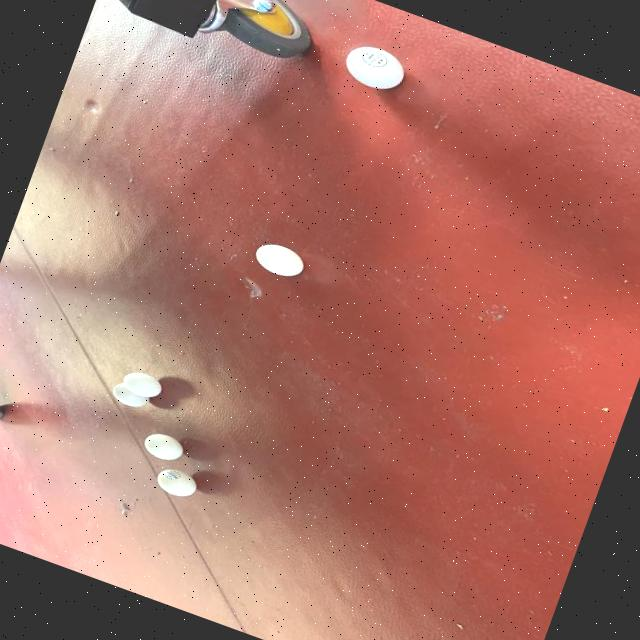ping-pong-ball: (324, 31, 421, 104), (238, 230, 318, 288), (138, 456, 207, 509), (132, 419, 200, 472), (114, 363, 176, 407), (101, 376, 156, 415)
